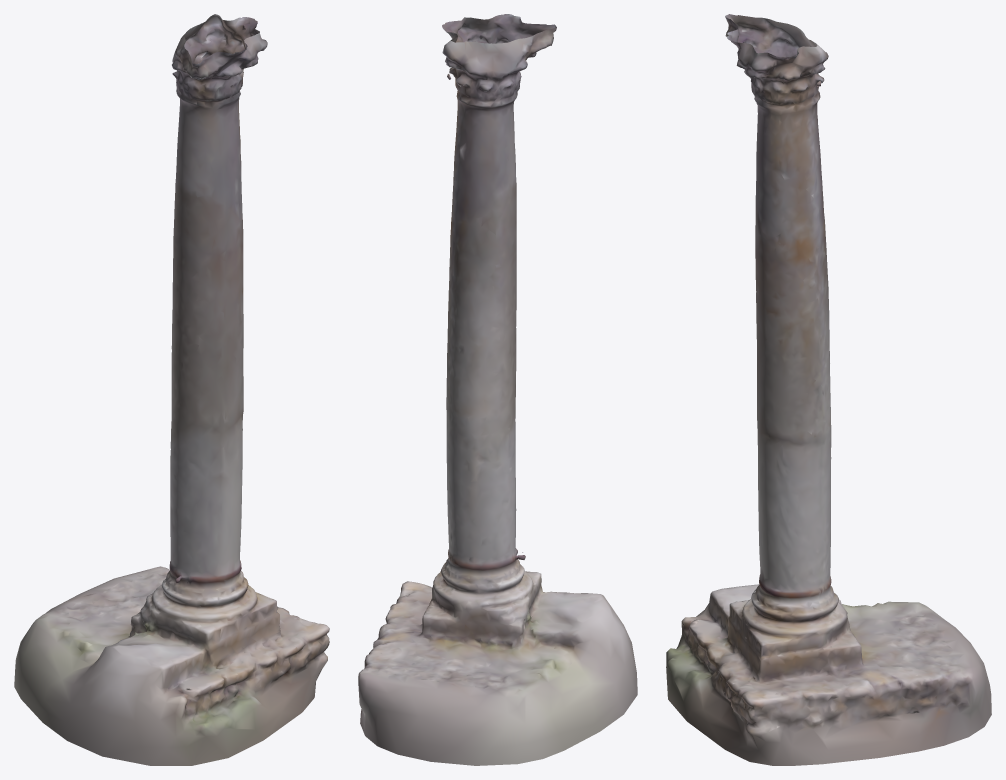
Rendered from coloana.glb.
3 renders of one model, left to right at view 1: azimuth 30°, elevation 25°; view 2: azimuth 150°, elevation 25°; view 3: azimuth 270°, elevation 25°, orthographic. The views are drawn at different scales.
Visible parts, largest first — view 1: object_low; view 2: object_low; view 3: object_low.
Part boxes in pixels (left/top/right/bottom): object_low: left=14, top=14, right=329, bottom=765; object_low: left=358, top=14, right=637, bottom=765; object_low: left=666, top=14, right=991, bottom=765.
Size of the model in its own units: 188 by 493 by 213.
